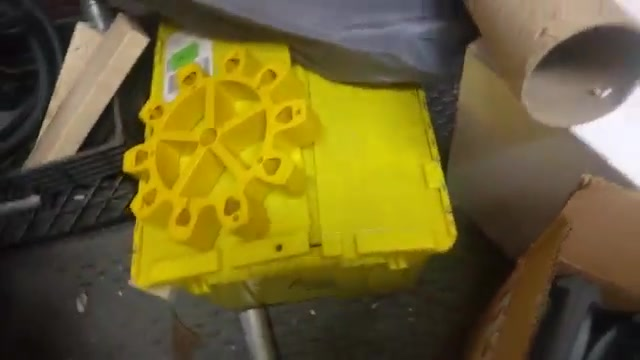gear: (115, 51, 331, 251)
